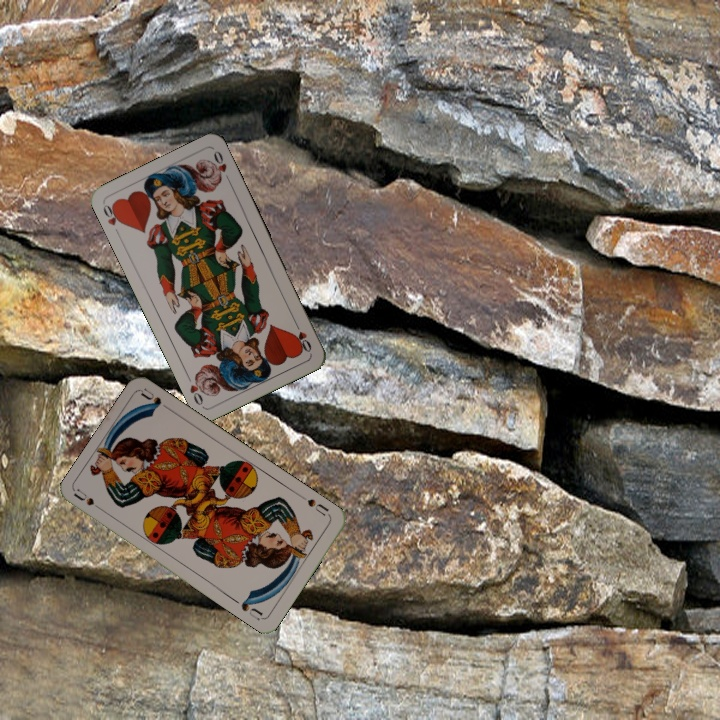HO: (99, 199, 125, 238), (290, 317, 314, 355)
SU: (71, 485, 108, 515), (297, 491, 333, 519)
